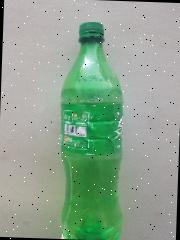plastic: (55, 20, 130, 240)
